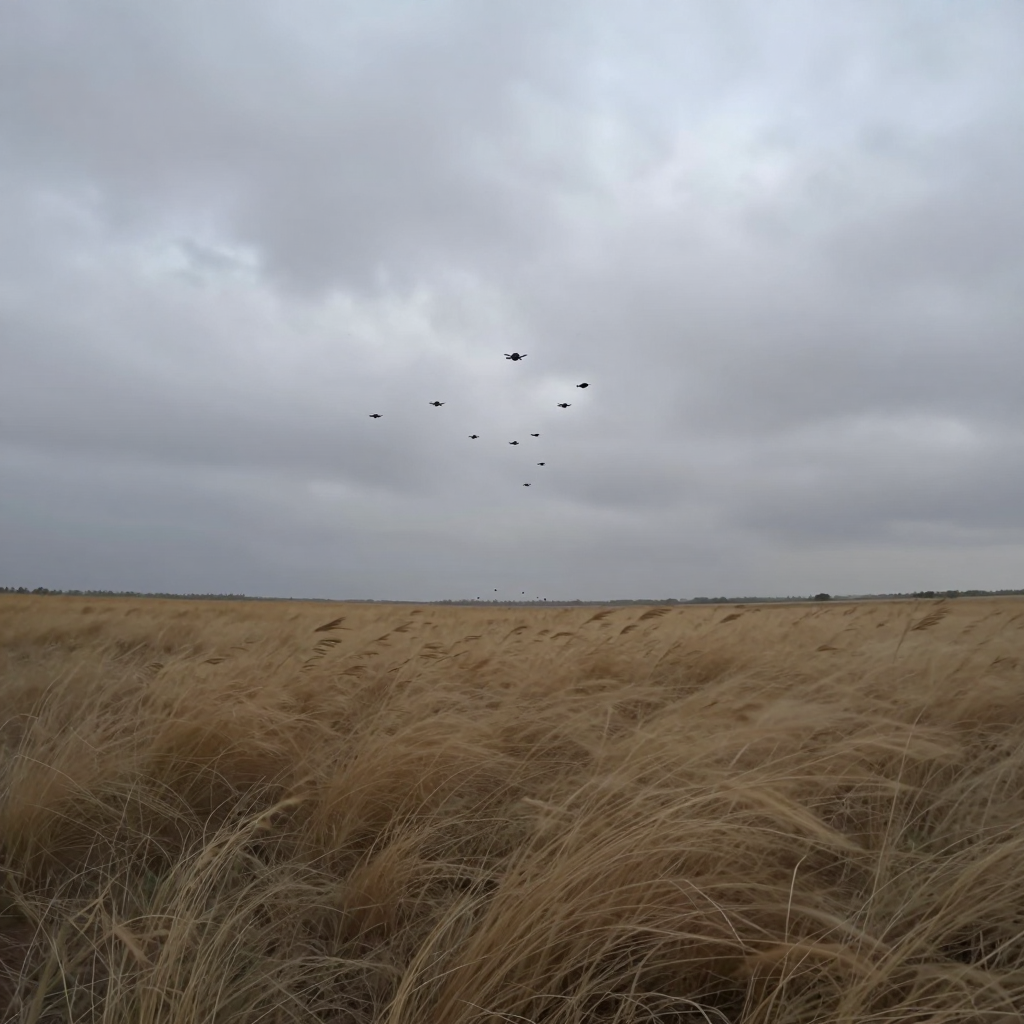drone: (504, 353, 527, 361), (429, 401, 446, 407), (369, 413, 383, 419), (576, 383, 590, 389), (557, 403, 572, 408), (523, 480, 531, 488), (468, 435, 480, 440), (508, 441, 519, 446), (532, 432, 541, 438), (504, 354, 512, 360), (537, 463, 545, 466), (508, 441, 512, 445)
